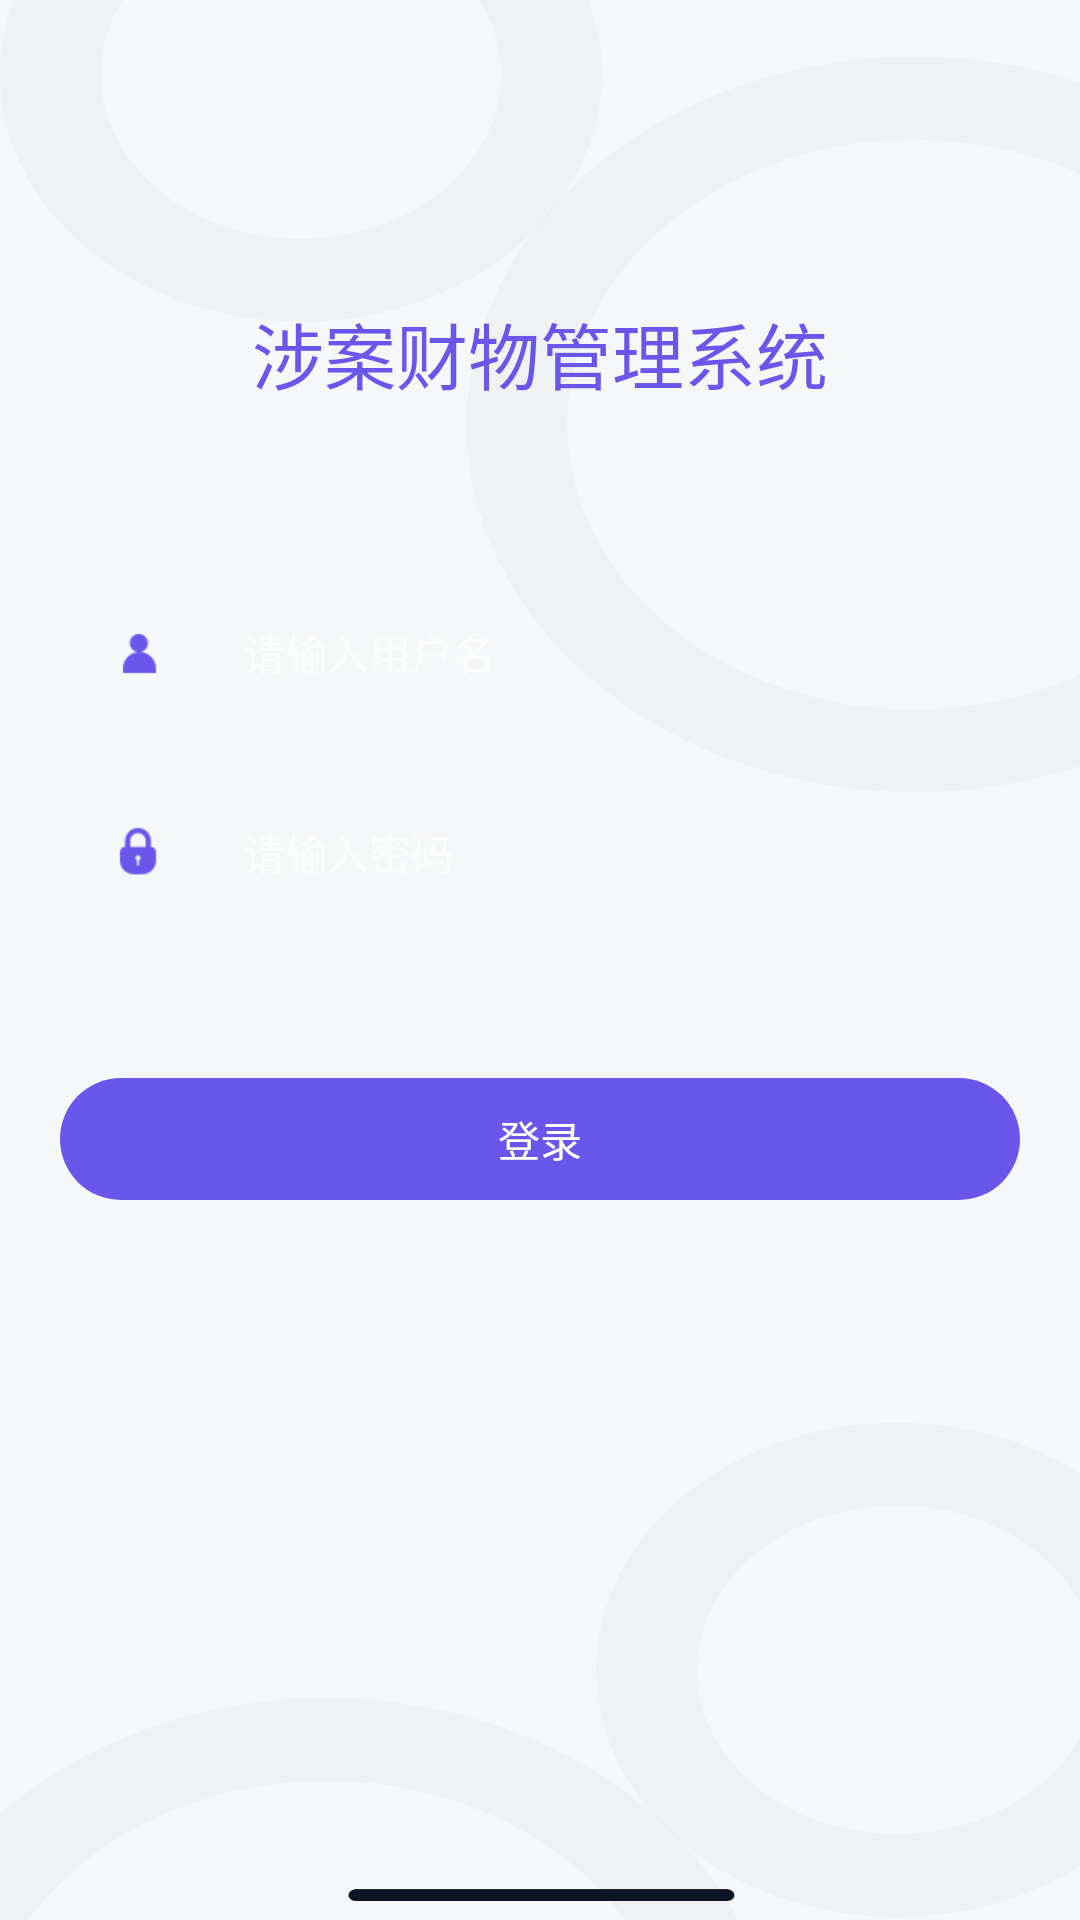

Icon click points for this 1080x1920 phone screenshot, format (x,y):
login account: (139,653)
login pwd: (138,851)
